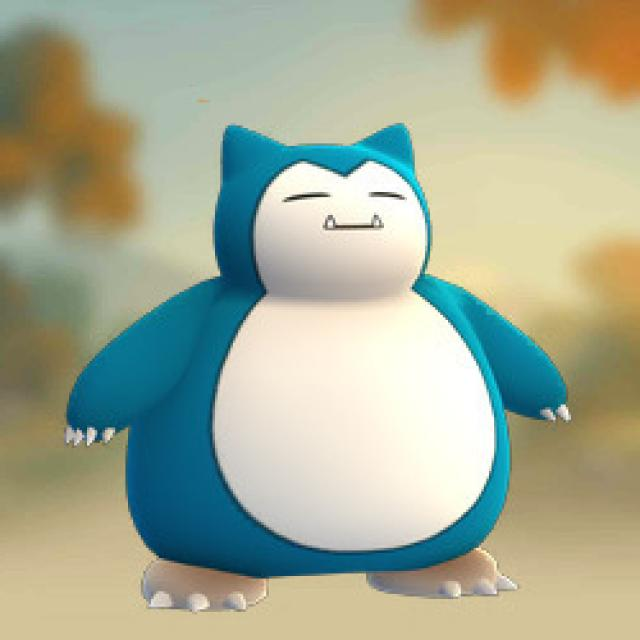Snorlax: (119, 121, 546, 604)
